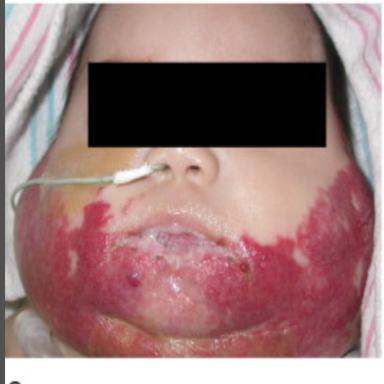Hemangiome: (16, 163, 372, 356)
